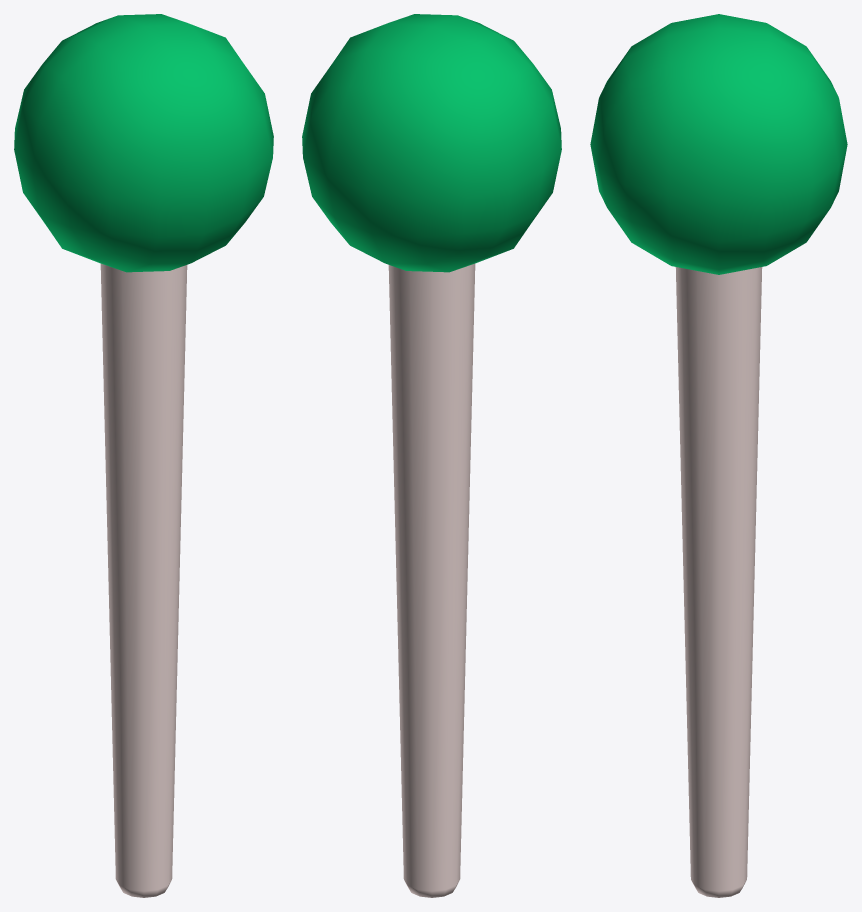
The model's file is Public_19_Needle_6.glb.
3 views of the same model, side by side, from view 1: azimuth 30°, elevation 25°; view 2: azimuth 150°, elevation 25°; view 3: azimuth 270°, elevation 25° (orthographic).
Visible parts, largest first — view 1: Public_19_Needle_6; view 2: Public_19_Needle_6; view 3: Public_19_Needle_6.
Part boxes in pixels (box(x1,y1,x2,y2)): Public_19_Needle_6: box(14, 14, 273, 897); Public_19_Needle_6: box(302, 14, 561, 897); Public_19_Needle_6: box(590, 14, 847, 897).
Bounding box in the file's own units: 0.1604 × 0.5941 × 0.1604.
1 material, 1 textured.
